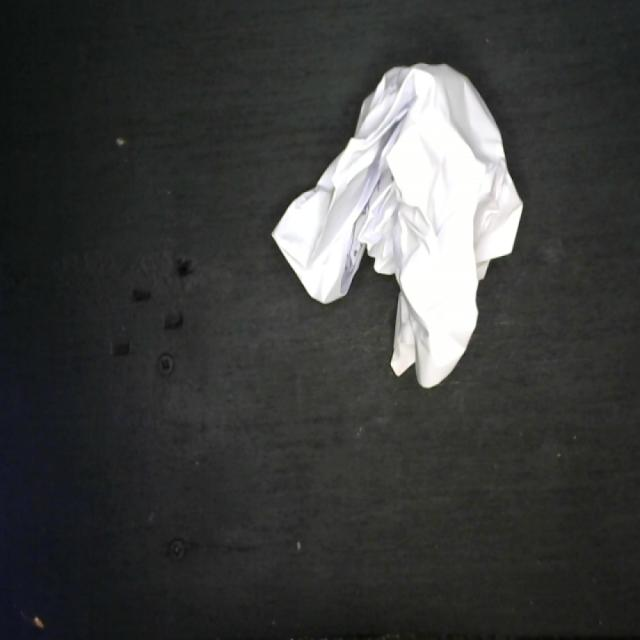biodegradable: (269, 61, 527, 391)
